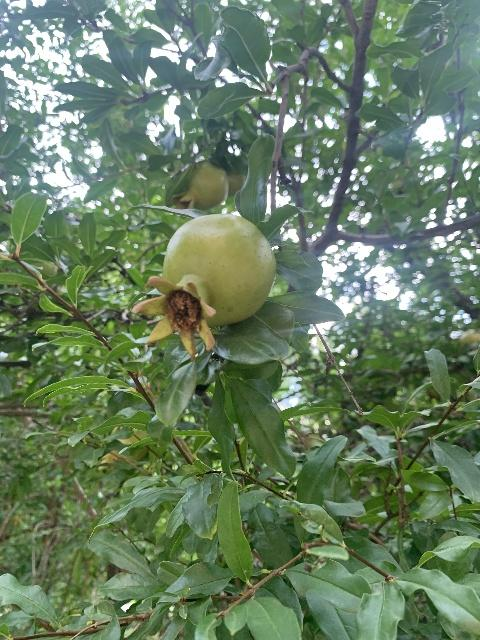mid-growth: (131, 213, 276, 360), (172, 160, 228, 209)
